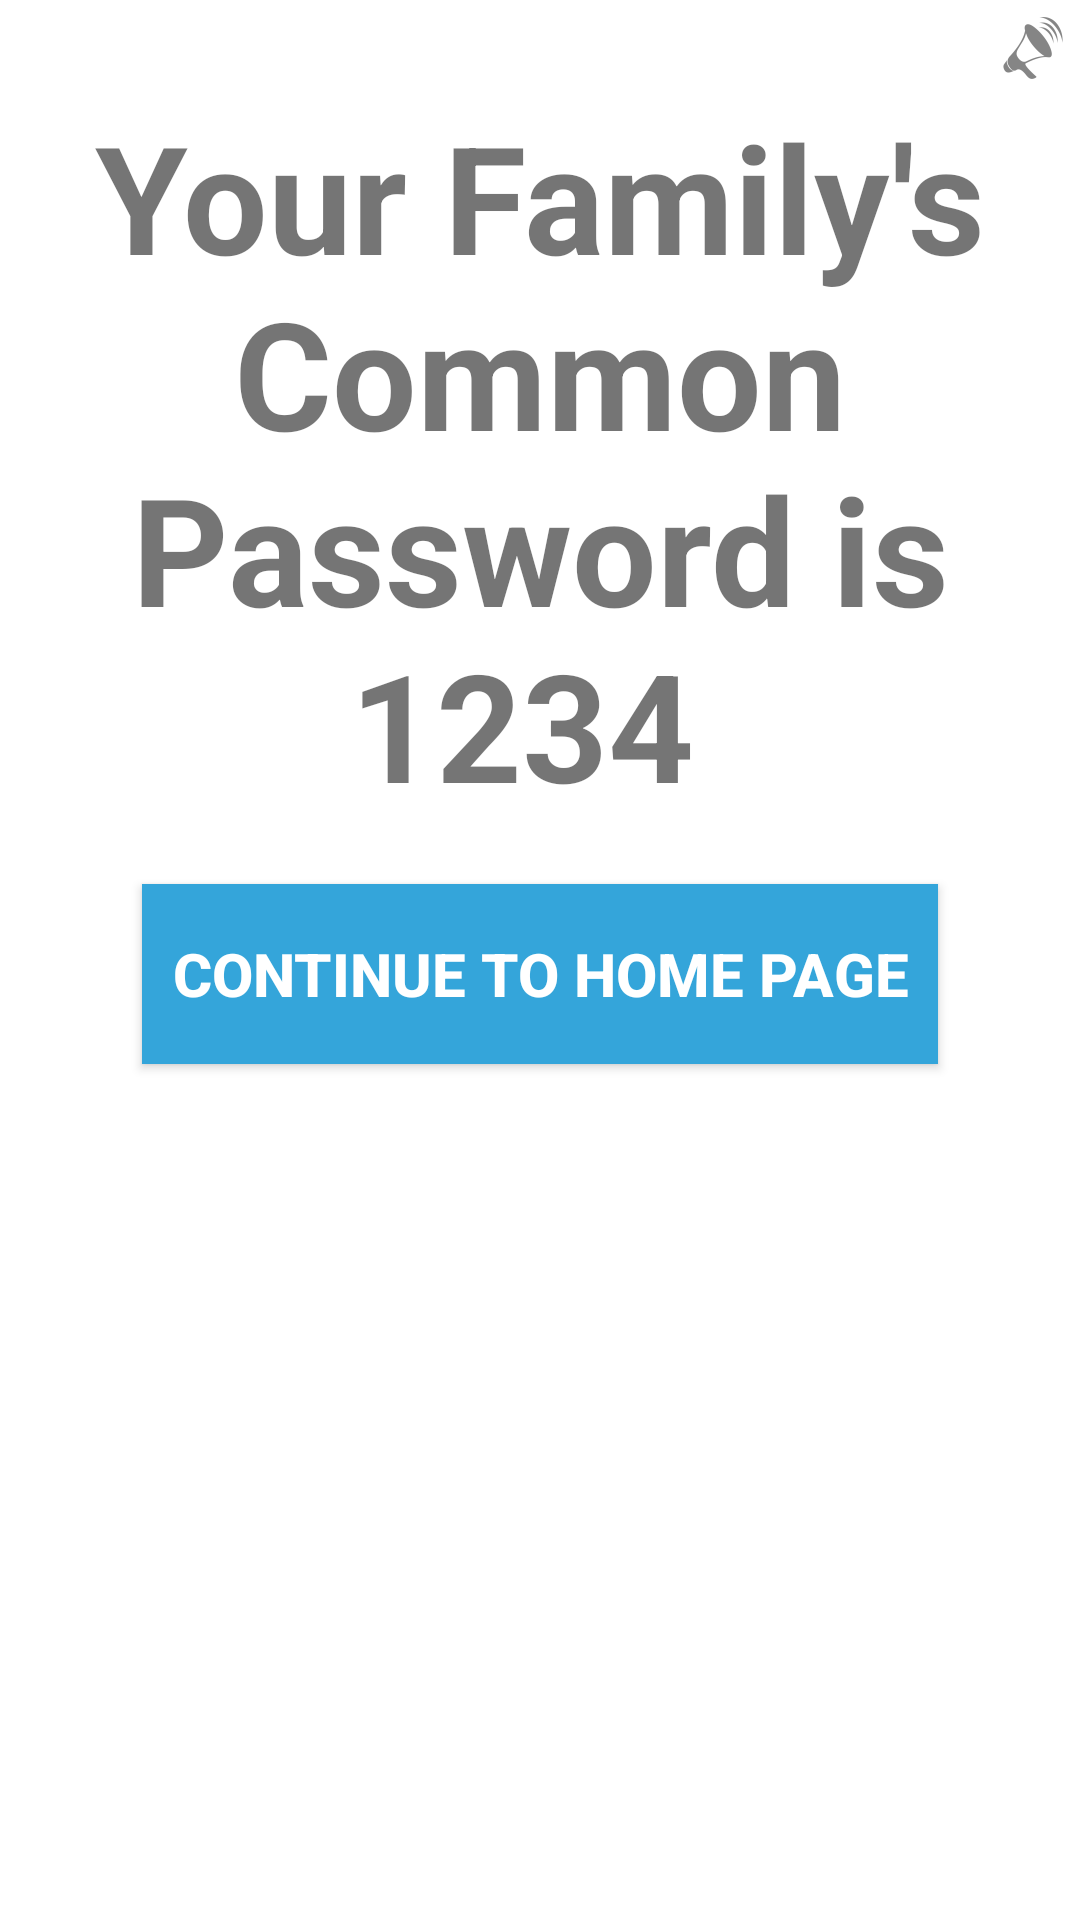

Named icons in this screenshot (1080×1920) and their bounding boxes, [x1,y1,x2,y2]:
speaker: [1003,17,1063,79]
